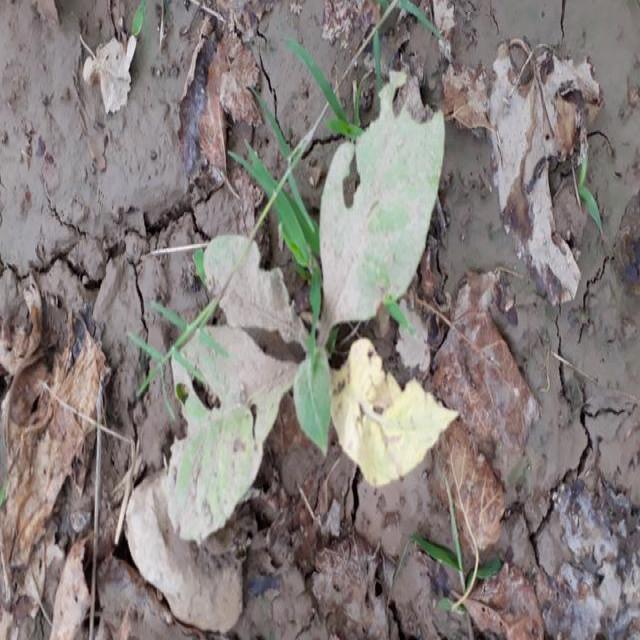crop: (160, 68, 460, 550)
